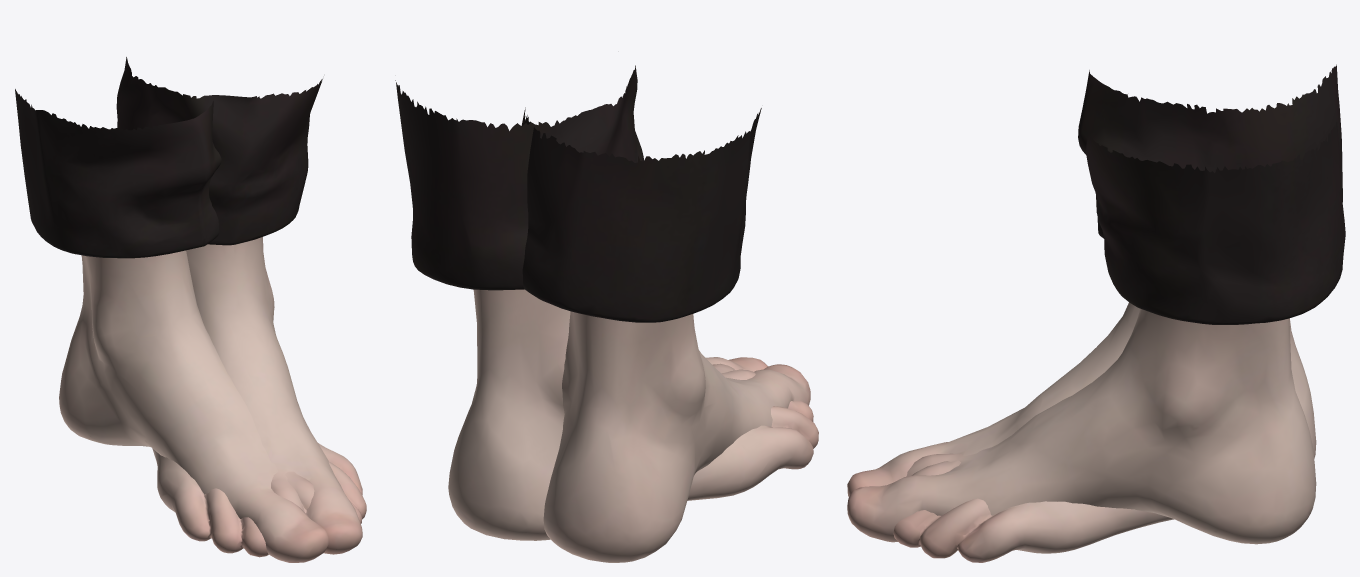
File: barefeet.glb
The picture shows the model from 3 angles, left to right: view 1: azimuth 30°, elevation 25°; view 2: azimuth 150°, elevation 25°; view 3: azimuth 270°, elevation 25°; orthographic projection. The views are drawn at different scales.
Visible parts, largest first — view 1: barefoot-right, barefoot-left; view 2: barefoot-right, barefoot-left; view 3: barefoot-left, barefoot-right.
Part boxes in pixels (x1,y1,x2,y2): barefoot-right: [15, 89, 366, 562]; barefoot-left: [116, 57, 362, 557]; barefoot-right: [521, 107, 810, 562]; barefoot-left: [395, 65, 818, 540]; barefoot-left: [847, 110, 1345, 544]; barefoot-right: [847, 64, 1342, 562].
Size of the model in its own units: 0.1672 by 0.2214 by 0.2284.
1 material, 1 textured.
